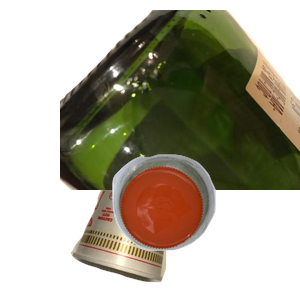glass: (60, 10, 300, 190)
metal: (102, 60, 252, 169)
plastic: (110, 152, 300, 300)
trash: (68, 158, 235, 300)
